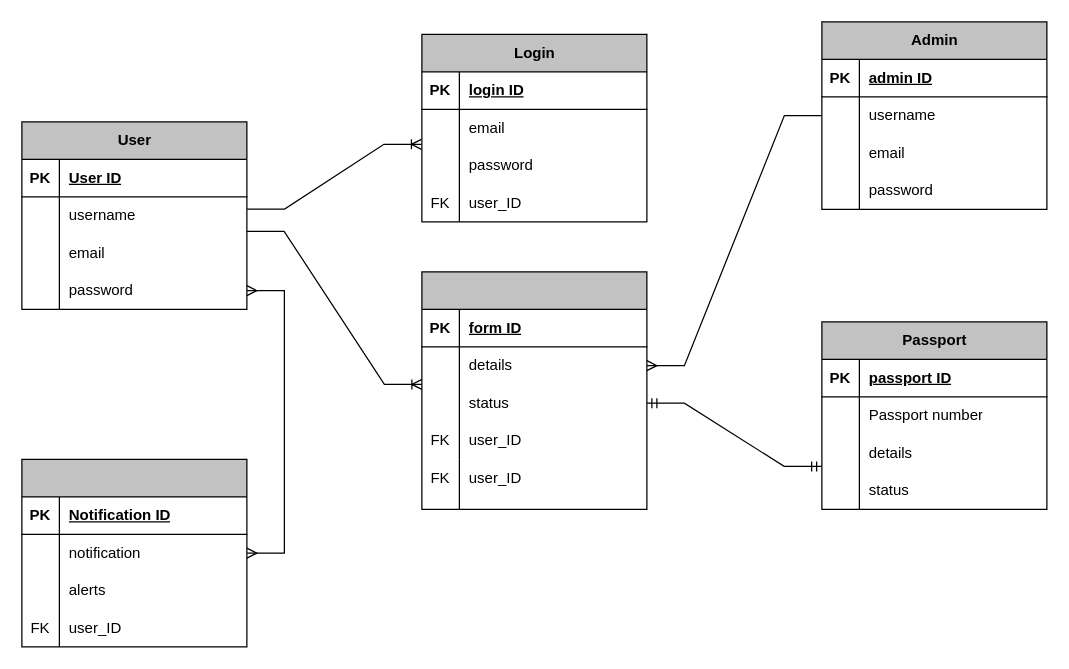
The diagram is 1069 pixels wide and 669 high, and some of its shapes have lost their labels. The box of each missing label's shape, as (x1, y1, x2, y2) in pixels:
Application_Form: (421, 271, 647, 509)
Notifications: (21, 458, 247, 647)
